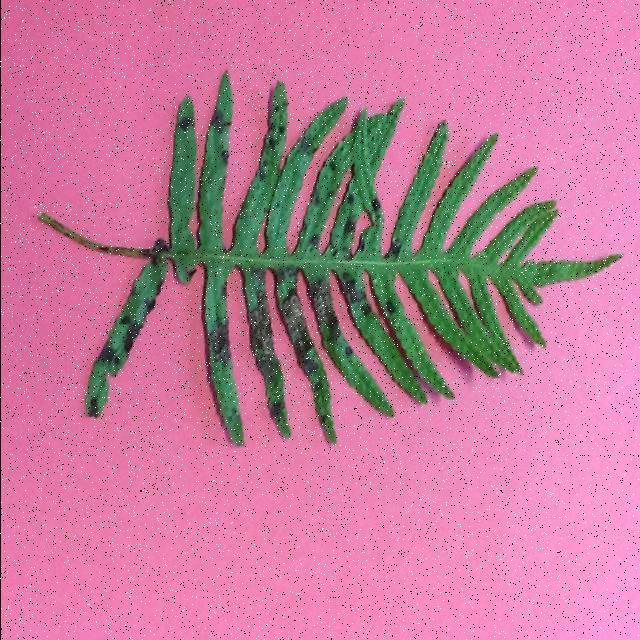foliage: (35, 72, 625, 450)
